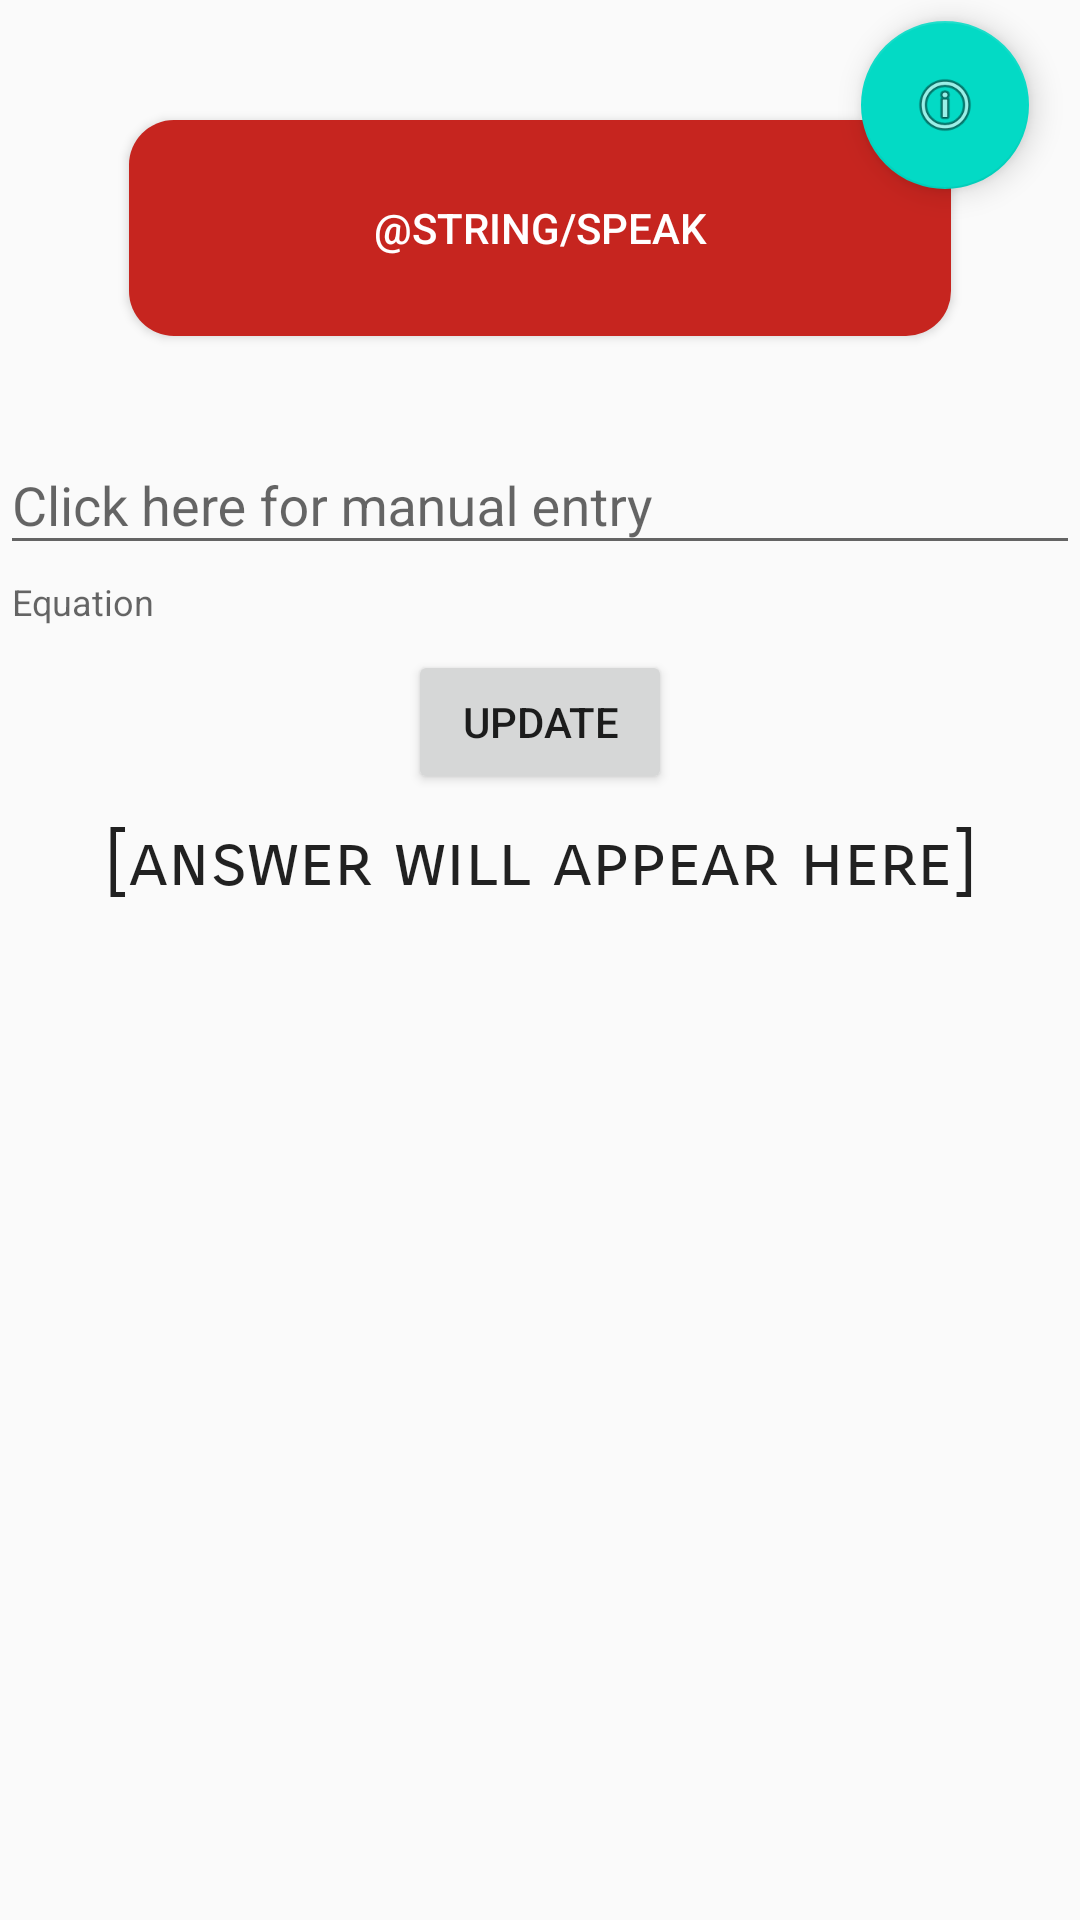

Named icons in this screenshot (1080*1920) and their centers, [x,y]:
info details: [945,105]
